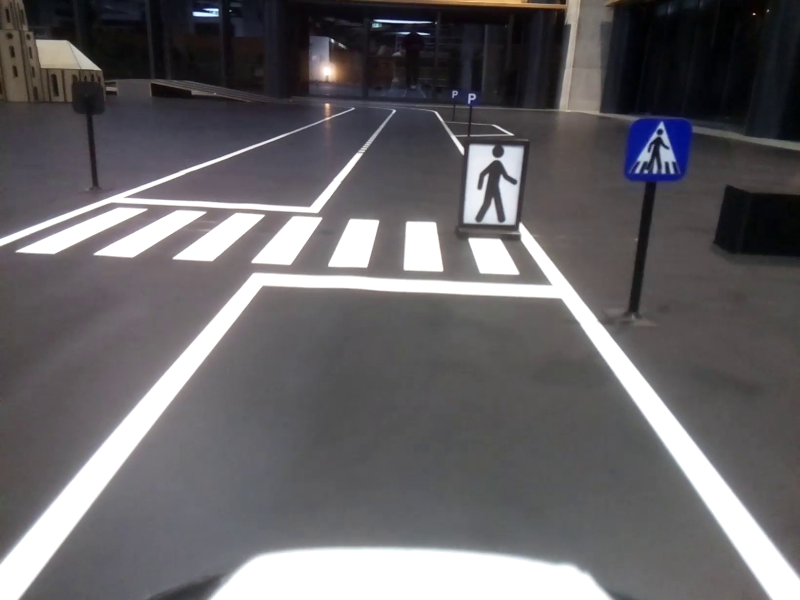pedestrian: (623, 120, 687, 178)
